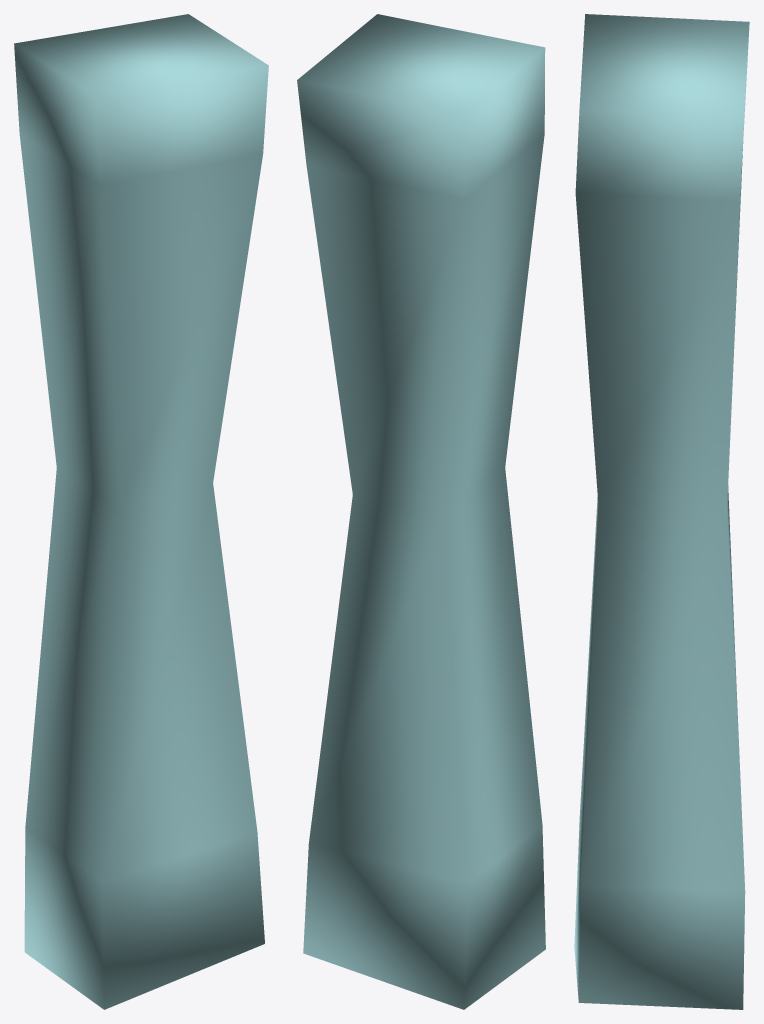
File: Skelly_palm.03.L.fbx
The picture shows the model from 3 angles, left to right: view 1: azimuth 30°, elevation 25°; view 2: azimuth 150°, elevation 25°; view 3: azimuth 270°, elevation 25°; orthographic projection. The views are drawn at different scales.
Visible parts, largest first — view 1: Skelly_palm.03.L; view 2: Skelly_palm.03.L; view 3: Skelly_palm.03.L.
Part boxes in pixels (<box>): Skelly_palm.03.L: <box>14,14,268,1009</box>; Skelly_palm.03.L: <box>297,14,545,1009</box>; Skelly_palm.03.L: <box>574,14,749,1009</box>.
Size of the model in its own units: 1.67 by 8.49 by 1.45.
